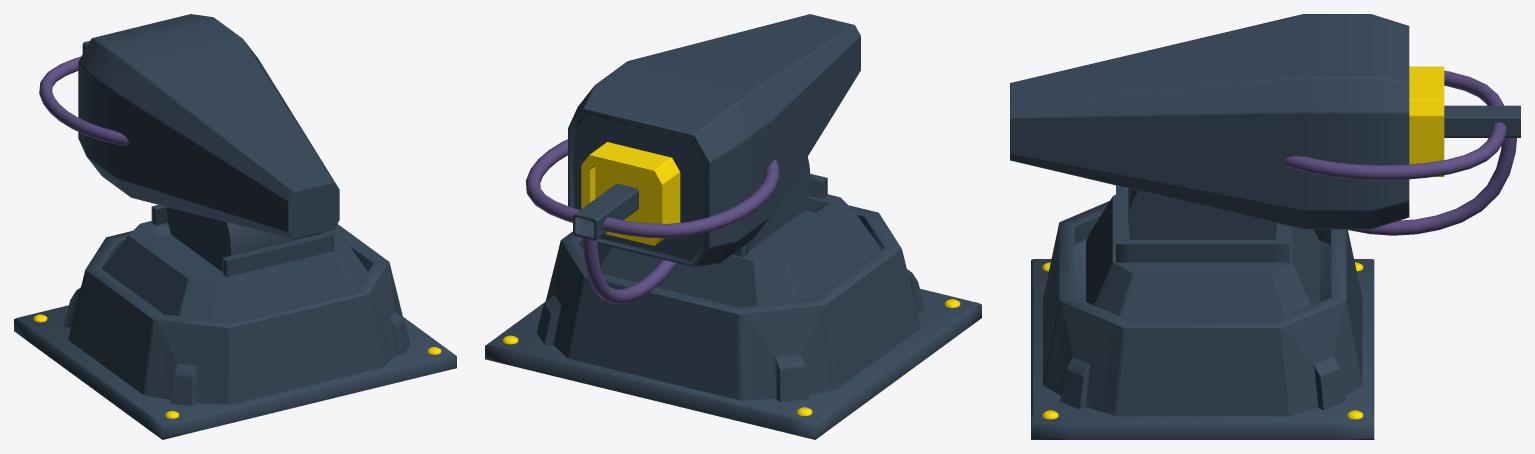
The model's file is ExportedBlenderFBXFile.fbx.
The picture shows the model from 3 angles, left to right: view 1: azimuth 30°, elevation 25°; view 2: azimuth 150°, elevation 25°; view 3: azimuth 270°, elevation 25°; orthographic projection. The views are drawn at different scales.
Parts seen in each view (by area): view 1: Stand, Turret; view 2: Stand, Turret; view 3: Turret, Stand.
Part boxes in pixels (<box>): Stand: <box>14,205,456,439</box>; Turret: <box>39,14,339,271</box>; Stand: <box>485,173,981,439</box>; Turret: <box>526,14,860,303</box>; Turret: <box>1010,14,1520,239</box>; Stand: <box>1031,185,1374,439</box>.
Size of the model in its own units: 4.09 by 3.55 by 5.32.
